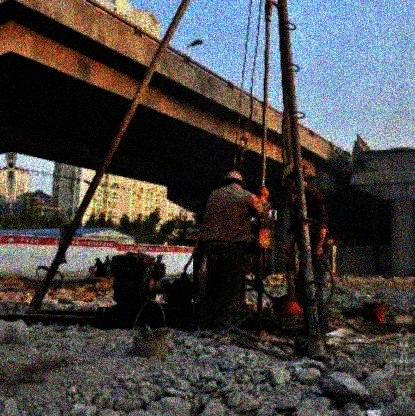helmet: (282, 166, 304, 190), (220, 170, 243, 186)
